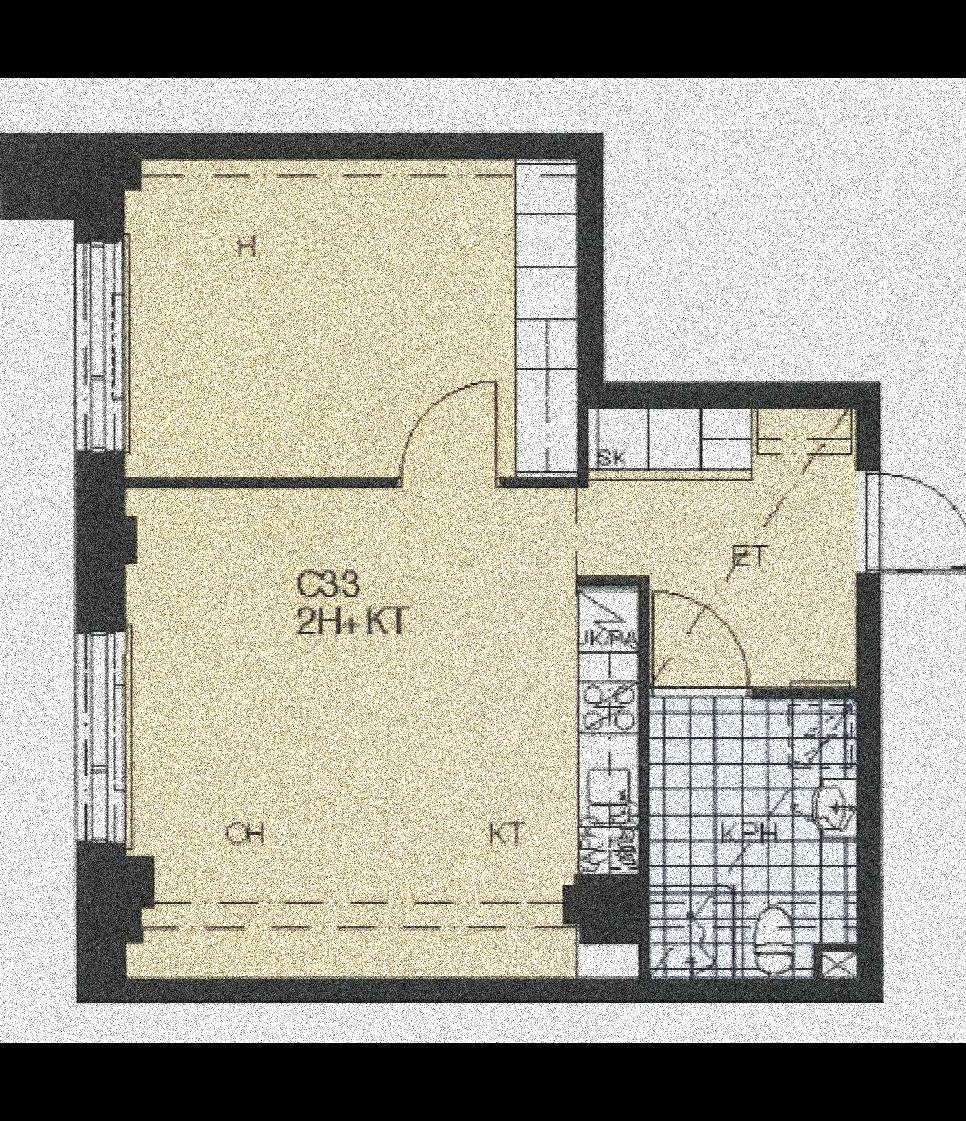door: (394, 370, 508, 490), (648, 578, 748, 708), (857, 467, 966, 574)
window: (74, 636, 130, 842), (78, 238, 130, 450)
zone: (118, 486, 632, 975), (120, 156, 574, 481), (570, 405, 856, 705), (644, 699, 850, 986)
